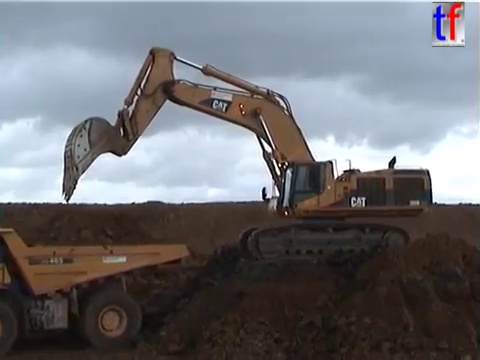excavator: (58, 44, 436, 266)
truck: (1, 224, 193, 360)
